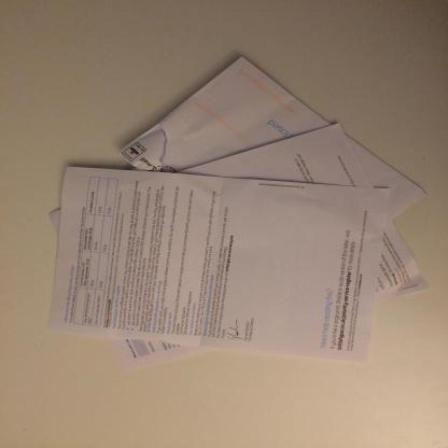Paper: (49, 124, 430, 374), (48, 167, 391, 364), (117, 58, 428, 222)
